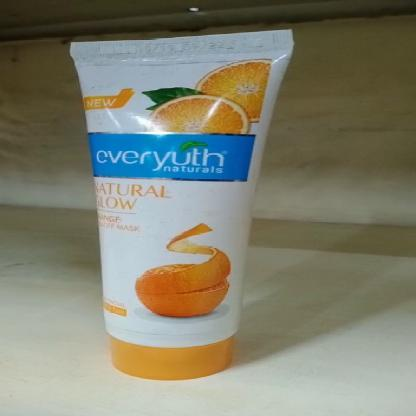EY NAT GLOW ORANGE PEEL OFF AY 90G: (58, 32, 294, 376)
